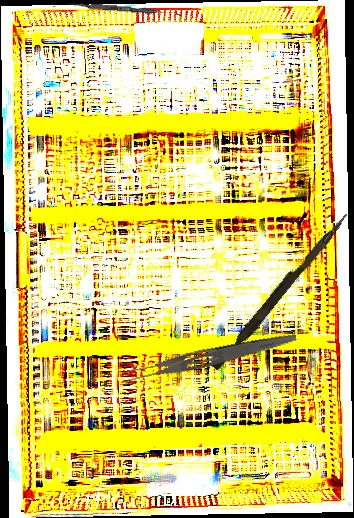Dressing Forceps: (121, 324, 298, 388)
Pusher: (211, 207, 350, 375)
Spatula Surgical: (66, 2, 182, 16)
